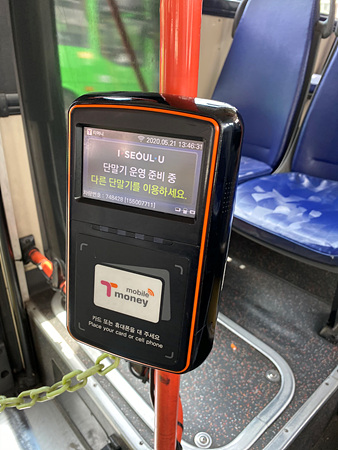terminal: (68, 93, 224, 369)
